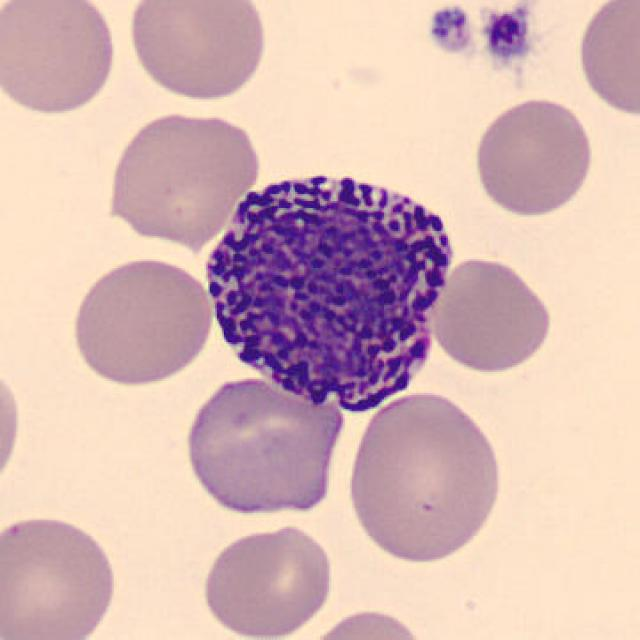Basophil: (192, 150, 460, 420)
Platelets: (482, 5, 533, 66), (425, 2, 475, 56)
RBC: (342, 388, 508, 566), (176, 370, 348, 520), (101, 106, 265, 250), (67, 252, 217, 388), (197, 522, 338, 640), (426, 252, 556, 376), (470, 94, 598, 218), (0, 509, 121, 640), (122, 0, 270, 102), (0, 0, 123, 120), (572, 0, 638, 122), (298, 606, 432, 640), (0, 354, 25, 498)
